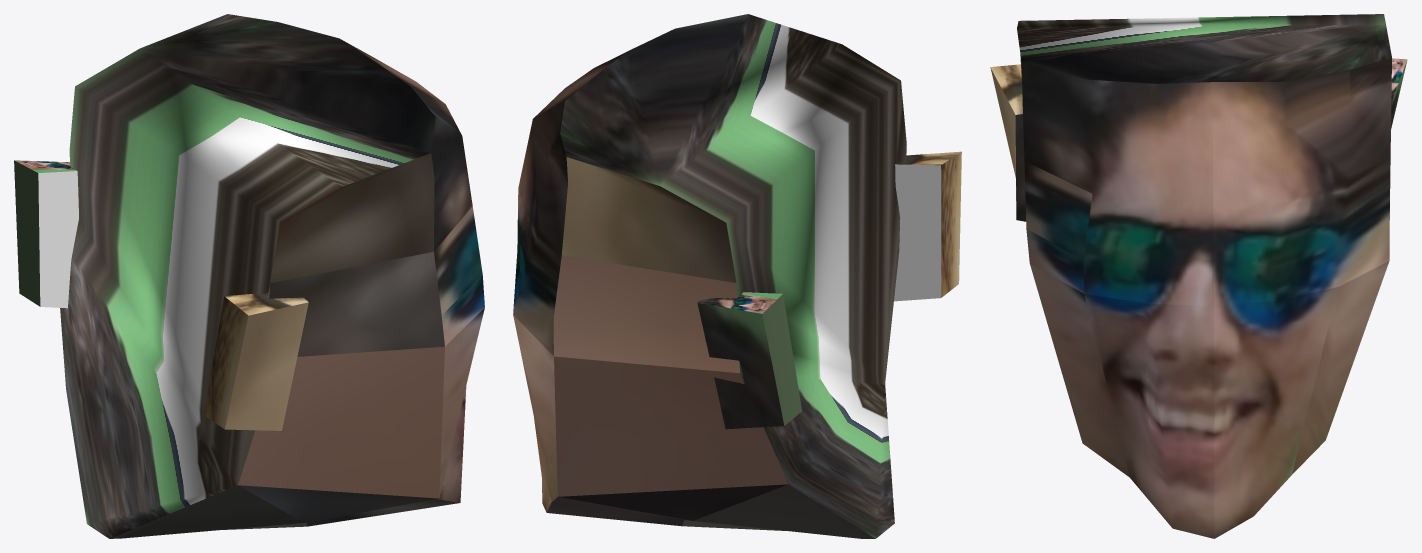
Rendered from shreyas.fbx.
3 views of the same model, side by side, from view 1: azimuth 30°, elevation 25°; view 2: azimuth 150°, elevation 25°; view 3: azimuth 270°, elevation 25° (orthographic). The views are drawn at different scales.
Parts seen in each view (by area): view 1: Cylinder; view 2: Cylinder; view 3: Cylinder.
Boxes of the visible parts, x1,y1,x2,y2 form: Cylinder: (14, 14, 484, 538); Cylinder: (513, 14, 961, 538); Cylinder: (990, 14, 1407, 538).
Bounding box in the file's own units: 61.33 × 75.27 × 66.23.
Materials: 1 (1 with a texture image).
